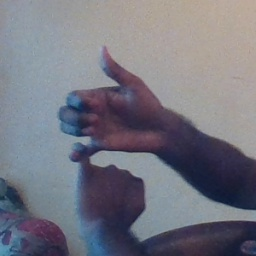S: (51, 41, 166, 219)
